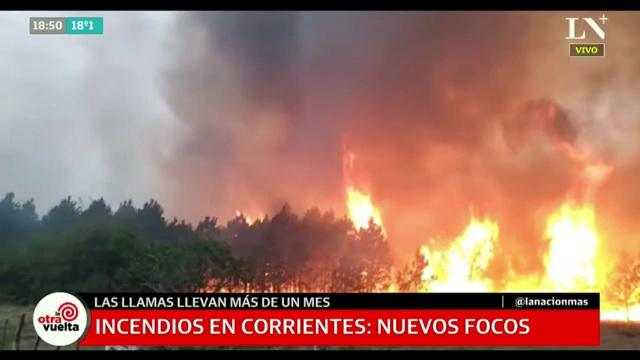fire: (547, 210, 600, 287), (441, 227, 486, 295), (347, 186, 377, 224)
smoke: (200, 15, 516, 156)
